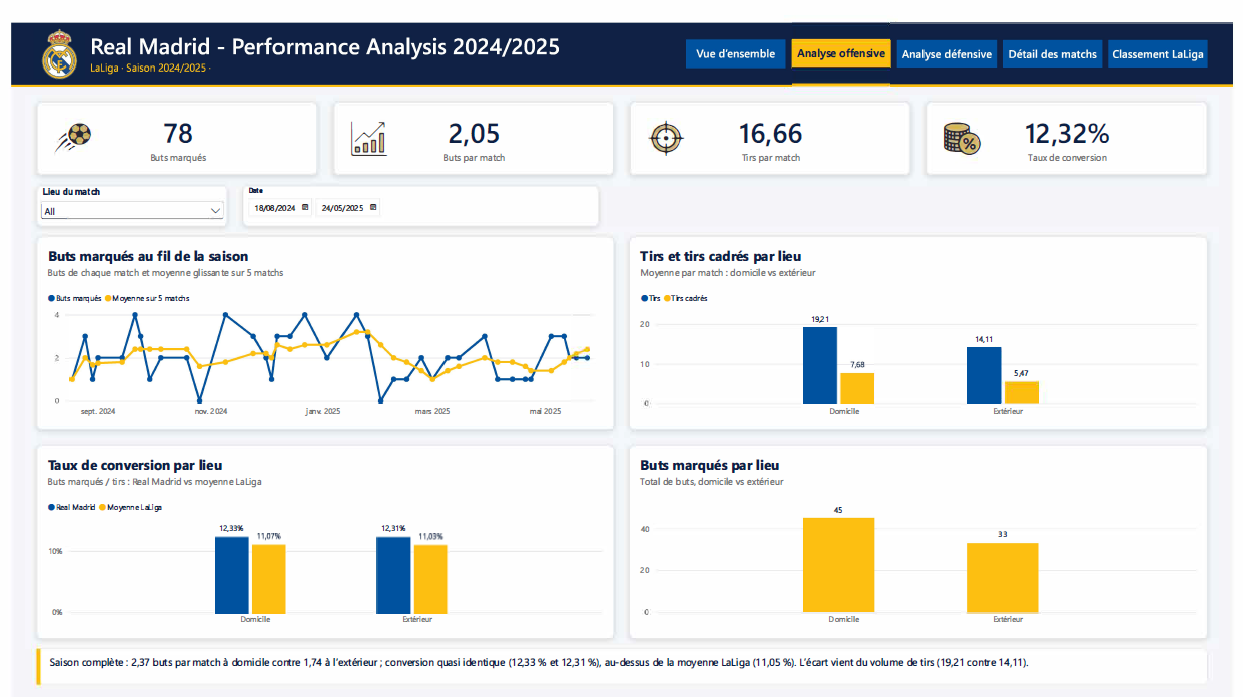

Layout of this report page (visuals, bound fields, positions):
{"tool":"powerbi","page":{"name":"Analyse offensive","canvas":[1920,1080],"ordinal":1},"visuals":[{"type":"shape","box":[0,0,1920,96],"z":0},{"type":"shape","box":[0,96,1920,4],"z":1},{"type":"textbox","box":[124,12,920,48],"z":2},{"type":"textbox","box":[124,58,920,30],"z":3},{"type":"image","box":[36,8,80,80],"z":4},{"type":"shape","box":[1060,26,156,44],"z":11},{"type":"shape","box":[1226,26,156,44],"z":12},{"type":"shape","box":[1392,26,156,44],"z":13},{"type":"shape","box":[1558,26,156,44],"z":14},{"type":"shape","box":[1724,26,156,44],"z":15},{"type":"textbox","box":[1060,35,156,35],"z":21},{"type":"textbox","box":[1226,35,156,35],"z":22},{"type":"textbox","box":[1392,35,156,35],"z":23},{"type":"textbox","box":[1558,35,156,35],"z":24},{"type":"textbox","box":[1724,35,156,35],"z":25},{"type":"actionButton","box":[1060,26,156,44],"z":31},{"type":"actionButton","box":[1226,26,156,44],"z":32},{"type":"actionButton","box":[1392,26,156,44],"z":33},{"type":"actionButton","box":[1558,26,156,44],"z":34},{"type":"actionButton","box":[1724,26,156,44],"z":35},{"type":"slicer","fields":{"Values":["Real_Madrid_2024_2025.Lieu du match"]},"box":[40,256,300,64],"z":60},{"type":"slicer","fields":{"Values":["Real_Madrid_2024_2025.Date"]},"box":[364,256,560,64],"z":61},{"type":"shape","box":[40,984,1840,56],"z":70},{"type":"shape","box":[40,984,6,56],"z":71},{"type":"textbox","box":[60,994,1800,40],"z":72},{"type":"cardVisual","fields":{"Data":["Real_Madrid_2024_2025.Buts marqués"]},"box":[40,124,442,116],"z":100},{"type":"cardVisual","fields":{"Data":["Average(Real_Madrid_2024_2025.Buts par match)"]},"box":[506,124,442,116],"z":101},{"type":"cardVisual","fields":{"Data":["Average(Real_Madrid_2024_2025.Tirs par match)"]},"box":[972,124,442,116],"z":102},{"type":"cardVisual","fields":{"Data":["Real_Madrid_2024_2025.Taux de conversion"]},"box":[1438,124,442,116],"z":103},{"type":"lineChart","title":"Buts marqués au fil de la saison","fields":{"Category":["Real_Madrid_2024_2025.Date"],"Y":["Sum(Real_Madrid_2024_2025.Buts par match)","Real_Madrid_2024_2025.Buts marqués (moy. 5 matchs)"]},"box":[40,336,908,304],"z":200},{"type":"clusteredColumnChart","title":"Tirs et tirs cadrés par lieu","fields":{"Category":["Real_Madrid_2024_2025.Lieu du match"],"Y":["Average(Real_Madrid_2024_2025.Tirs par match)","Average(Real_Madrid_2024_2025.Tirs cadrés par match)"]},"box":[972,336,908,304],"z":201},{"type":"clusteredColumnChart","title":"Taux de conversion par lieu","fields":{"Category":["Real_Madrid_2024_2025.Lieu du match"],"Y":["Real_Madrid_2024_2025.Taux de conversion","LaLiga_Equipes.Conversion (LaLiga)"]},"box":[40,664,908,304],"z":202},{"type":"clusteredColumnChart","title":"Buts marqués par lieu","fields":{"Category":["Real_Madrid_2024_2025.Lieu du match"],"Y":["Real_Madrid_2024_2025.Buts marqués"]},"box":[972,664,908,304],"z":203},{"type":"image","box":[64,150,64,64],"z":300},{"type":"image","box":[530,150,64,64],"z":301},{"type":"image","box":[996,150,64,64],"z":302},{"type":"image","box":[1462,150,64,64],"z":303}]}

Visuals, with their boxes in screenshot pixels (x1, y1, x2, y2), scaled from the page's 1920x1080 canvas onto the 1243x697 screenshot:
shape: [0, 0, 1242, 62]
shape: [0, 62, 1242, 65]
textbox: [80, 8, 676, 39]
textbox: [80, 37, 676, 57]
image: [23, 5, 75, 57]
shape: [686, 17, 787, 45]
shape: [794, 17, 895, 45]
shape: [901, 17, 1002, 45]
shape: [1009, 17, 1110, 45]
shape: [1116, 17, 1217, 45]
textbox: [686, 23, 787, 45]
textbox: [794, 23, 895, 45]
textbox: [901, 23, 1002, 45]
textbox: [1009, 23, 1110, 45]
textbox: [1116, 23, 1217, 45]
actionButton: [686, 17, 787, 45]
actionButton: [794, 17, 895, 45]
actionButton: [901, 17, 1002, 45]
actionButton: [1009, 17, 1110, 45]
actionButton: [1116, 17, 1217, 45]
slicer - Real_Madrid_2024_2025.Lieu du match: [26, 165, 220, 207]
slicer - Real_Madrid_2024_2025.Date: [236, 165, 598, 207]
shape: [26, 635, 1217, 671]
shape: [26, 635, 30, 671]
textbox: [39, 641, 1204, 667]
cardVisual - Real_Madrid_2024_2025.Buts marqués: [26, 80, 312, 155]
cardVisual - Average(Real_Madrid_2024_2025.Buts par match): [328, 80, 614, 155]
cardVisual - Average(Real_Madrid_2024_2025.Tirs par match): [629, 80, 915, 155]
cardVisual - Real_Madrid_2024_2025.Taux de conversion: [931, 80, 1217, 155]
"Buts marqués au fil de la saison" lineChart: [26, 217, 614, 413]
"Tirs et tirs cadrés par lieu" clusteredColumnChart: [629, 217, 1217, 413]
"Taux de conversion par lieu" clusteredColumnChart: [26, 429, 614, 625]
"Buts marqués par lieu" clusteredColumnChart: [629, 429, 1217, 625]
image: [41, 97, 83, 138]
image: [343, 97, 385, 138]
image: [645, 97, 686, 138]
image: [946, 97, 988, 138]
